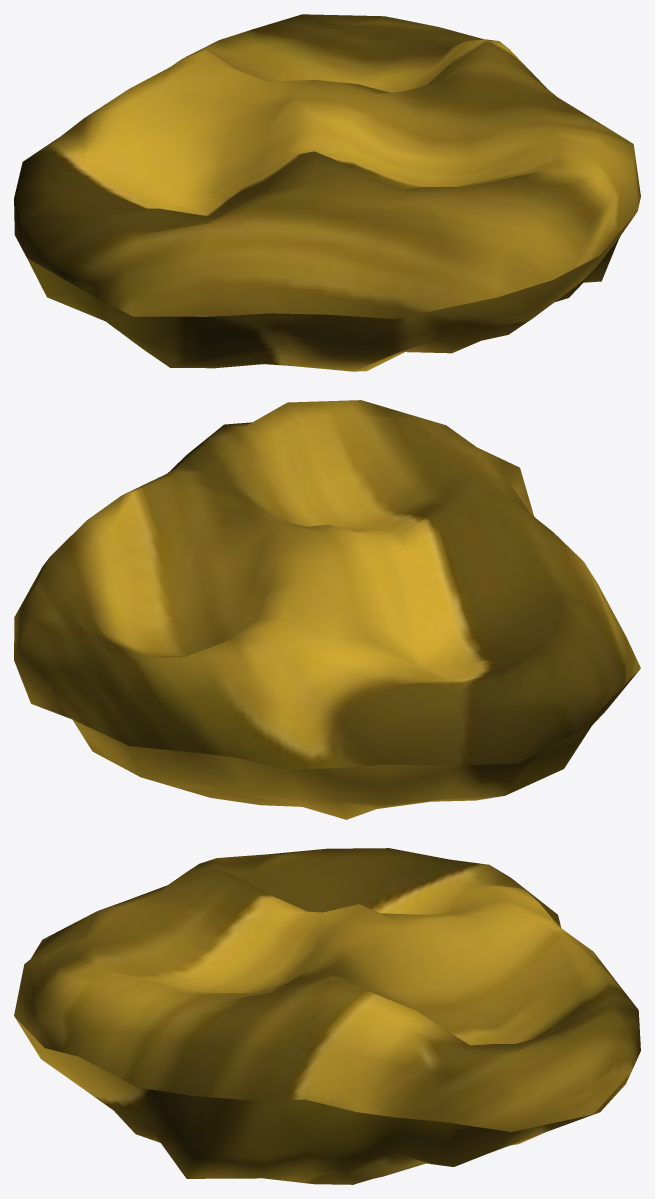
Rendered from softcoral-01.glb.
The picture shows the model from 3 angles, top to bottom: view 1: azimuth 30°, elevation 25°; view 2: azimuth 150°, elevation 25°; view 3: azimuth 270°, elevation 25°; orthographic projection. The views are drawn at different scales.
Parts seen in each view (by area): view 1: coral01; view 2: coral01; view 3: coral01.
Boxes of the visible parts, <box> form: coral01: <box>14,14,640,371</box>; coral01: <box>14,400,640,819</box>; coral01: <box>14,848,640,1184</box>.
Bounding box in the file's own units: 1.5 × 0.6457 × 1.61.
Materials: 1 (1 with a texture image).
